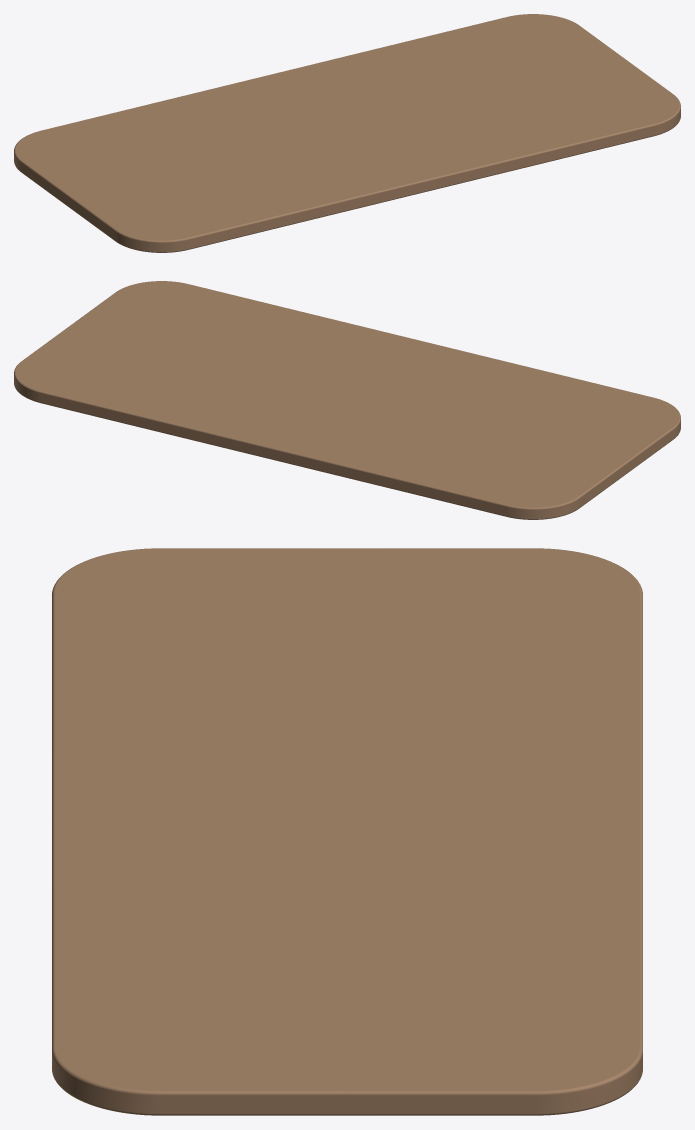
File: Top_Rounded.glb
3 renders of one model, top to bottom at view 1: azimuth 30°, elevation 25°; view 2: azimuth 150°, elevation 25°; view 3: azimuth 270°, elevation 25°, orthographic. The views are drawn at different scales.
Visible parts, largest first — view 1: Top_Rounded; view 2: Top_Rounded; view 3: Top_Rounded.
Part boxes in pixels (x1,y1,x2,y2): Top_Rounded: [14, 14, 680, 252]; Top_Rounded: [14, 281, 680, 519]; Top_Rounded: [52, 548, 642, 1115].
Size of the model in its own units: 1.22 by 0.0254 by 0.5588.
